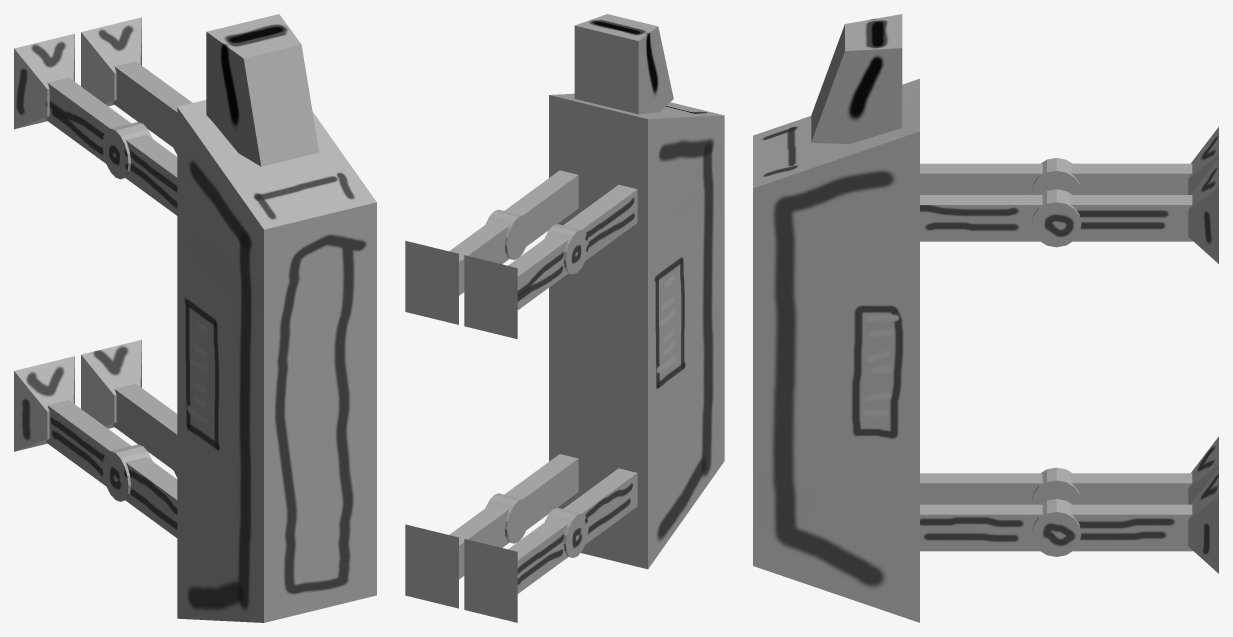
File: robot.obj
3 renders of one model, left to right at view 1: azimuth 30°, elevation 25°; view 2: azimuth 150°, elevation 25°; view 3: azimuth 270°, elevation 25°, orthographic. The views are drawn at different scales.
Parts seen in each view (by area): view 1: Cube; view 2: Cube; view 3: Cube.
Part boxes in pixels (x1,y1,x2,y2): Cube: (14, 14, 376, 622); Cube: (405, 14, 724, 622); Cube: (753, 14, 1218, 622).
Size of the model in its own units: 2.62 by 11.52 by 8.6.
